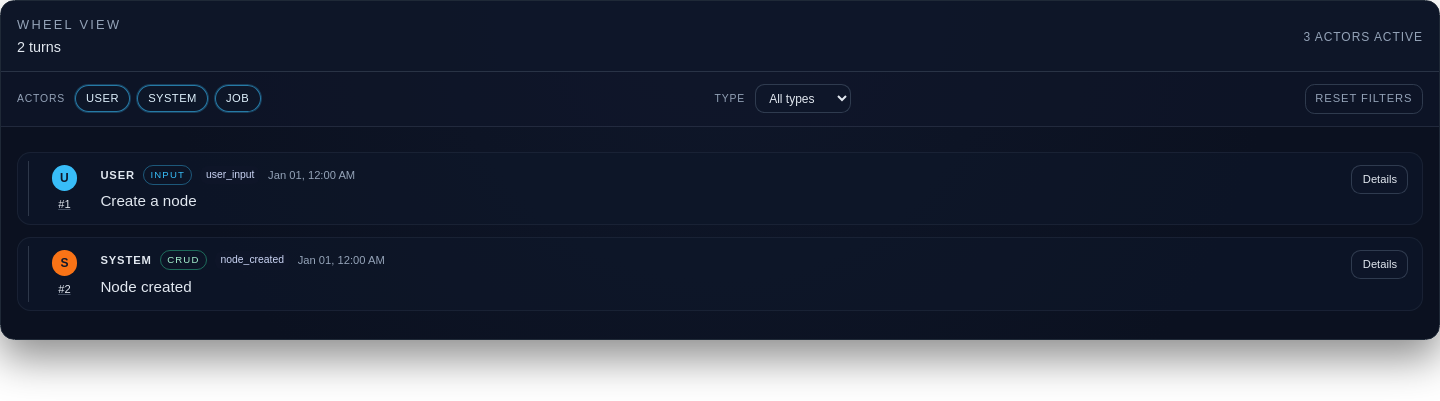
Test: WheelViewPanel › filters turns by type selection
Select "CRUD" in the dropdown named "Type filter" at (803, 99), box [755,84,851,113]
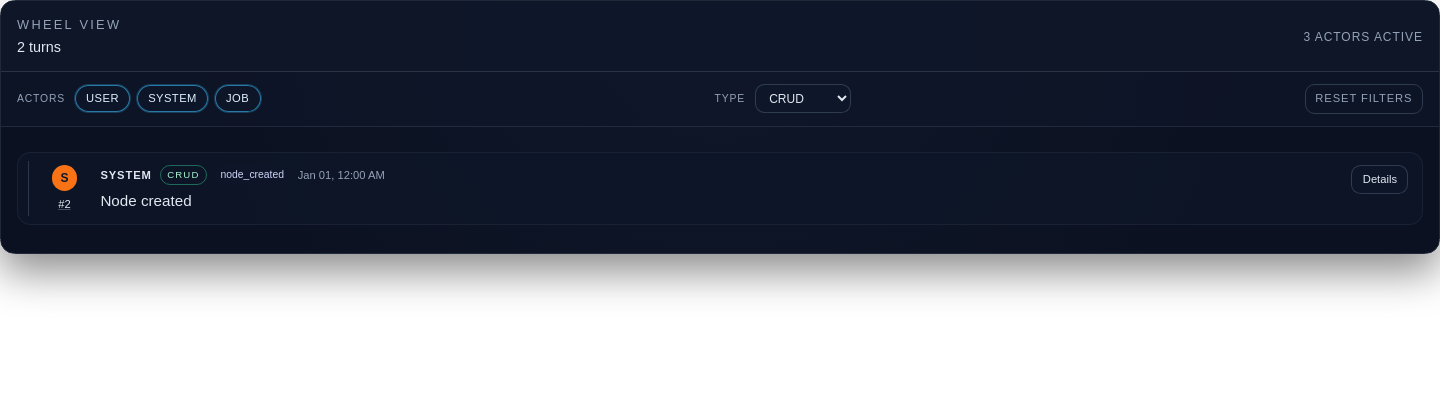
Expected: the text "Node created" is shown, [100,192,192,209]
Now the text "Create a node" is gone
